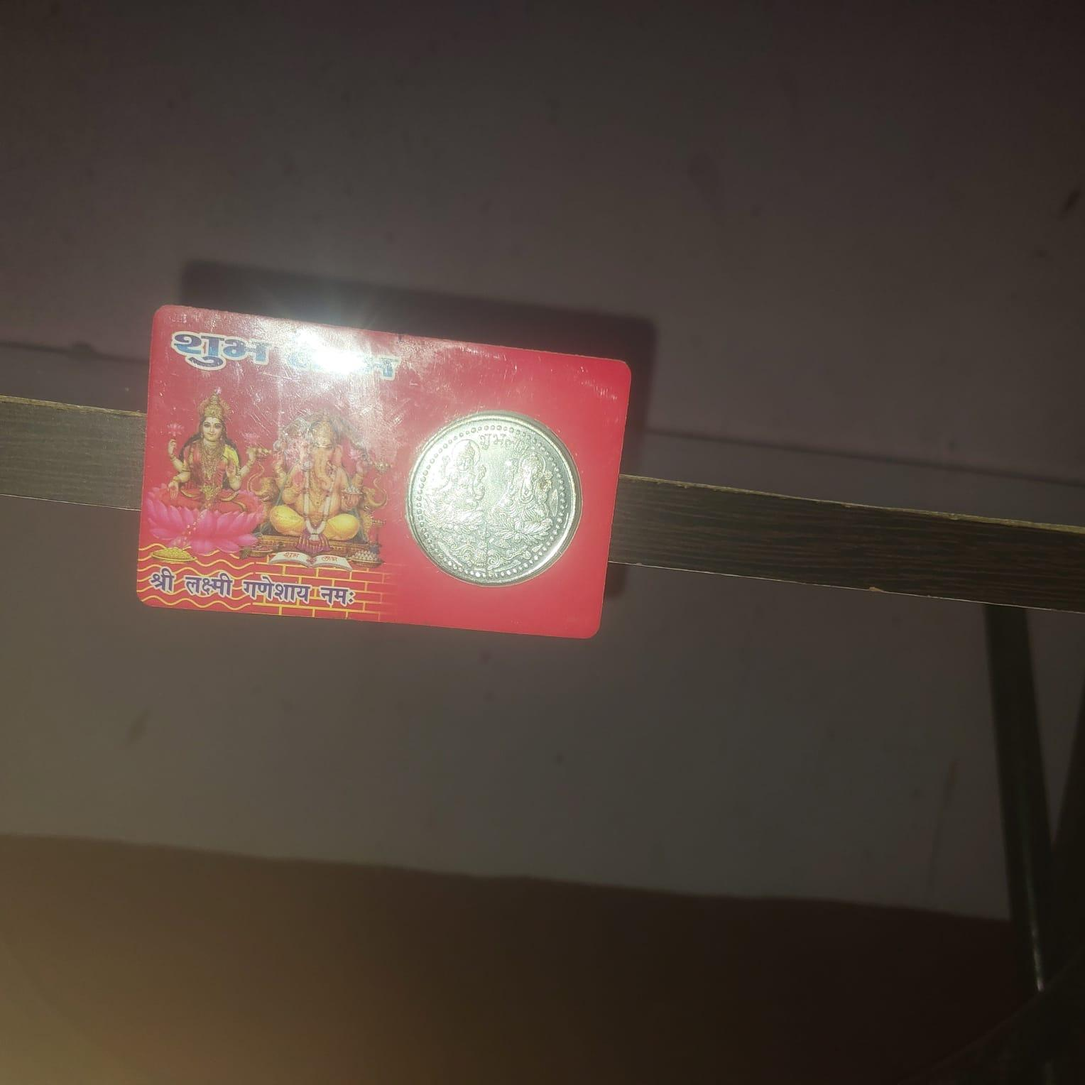blessing_card: (141, 299, 641, 640)
